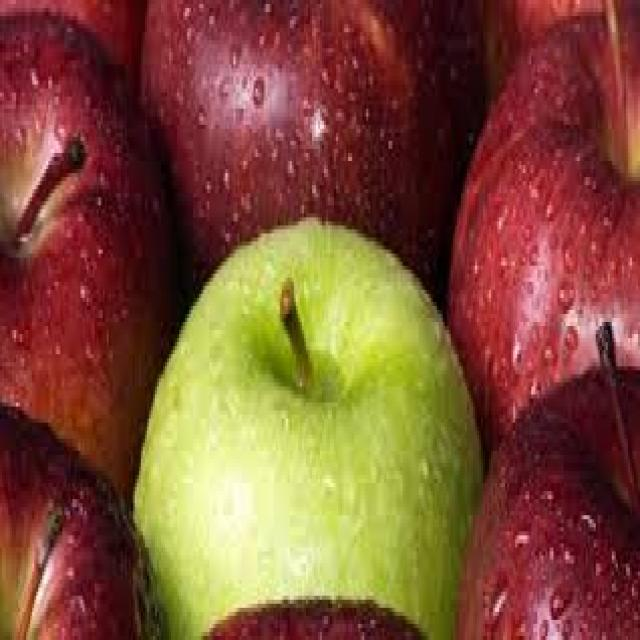Apple: (162, 220, 453, 638), (0, 14, 157, 483), (144, 3, 452, 237), (471, 30, 640, 432), (488, 400, 640, 640), (4, 410, 137, 640)
